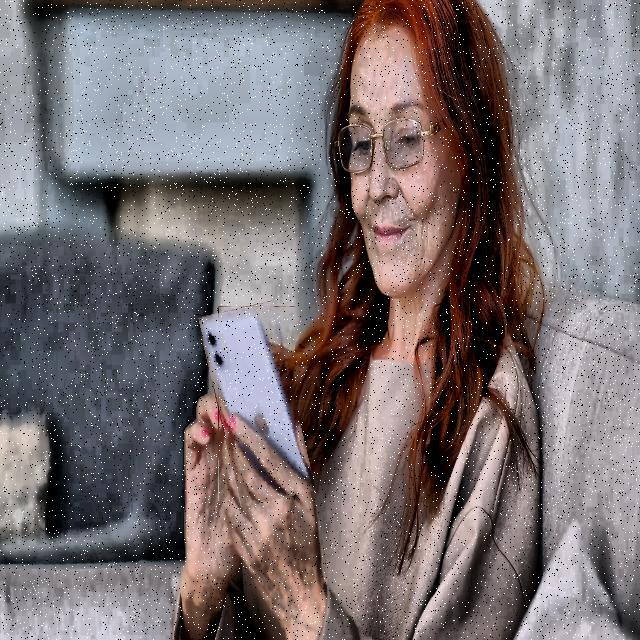Phone: (208, 303, 305, 504)
